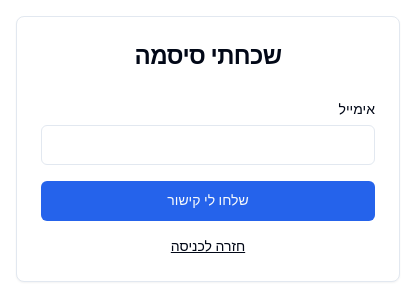
Test case: ForgotPasswordPage › sends a reset email that returns to /reset-password
Type "mom@family.com" into the field labelled "אימייל" at [208, 145], box [41, 125, 375, 165]
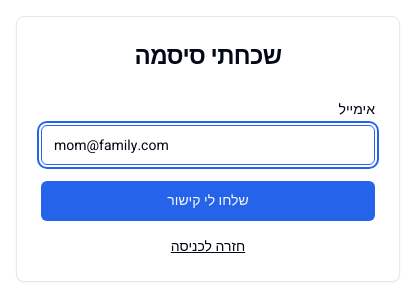
Click the button "שלחו לי קישור" at [208, 201], box [41, 181, 375, 221]
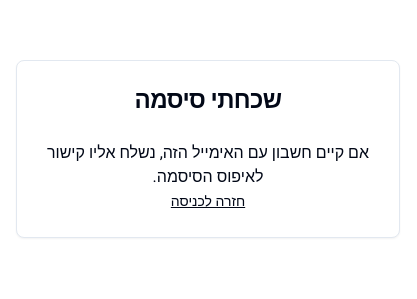
Result: the message shows "נשלח אליו קישור" at [47, 141, 369, 189]
